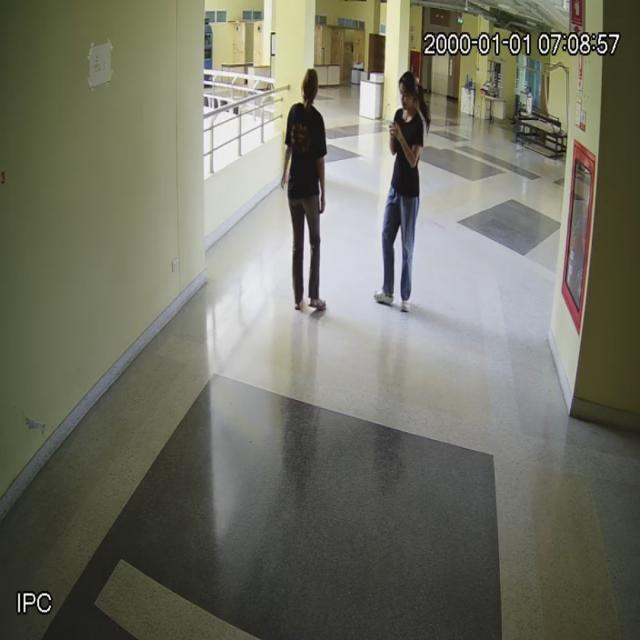normal: (378, 62, 427, 308), (287, 59, 329, 313)
